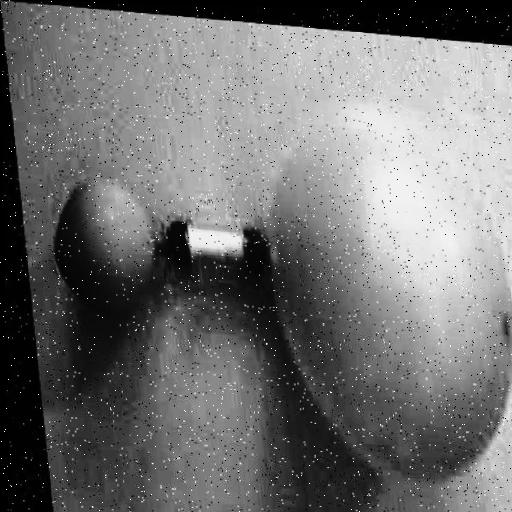balloon: (248, 84, 512, 477), (42, 173, 161, 320)
